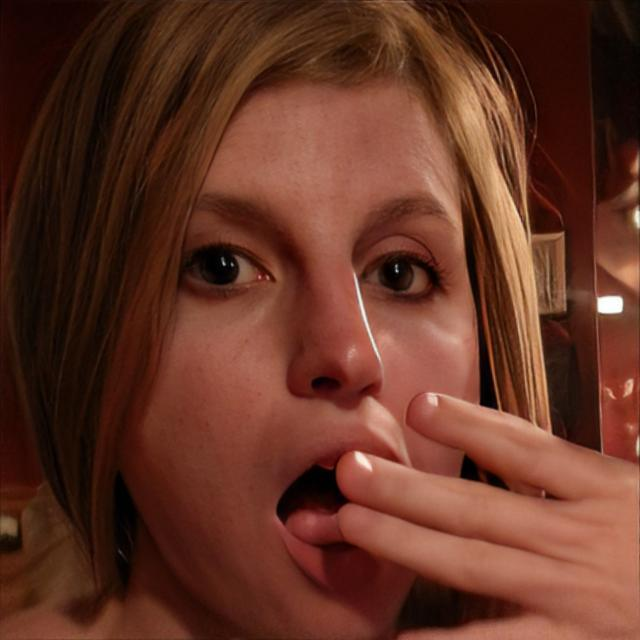surprise: (111, 65, 484, 640)
